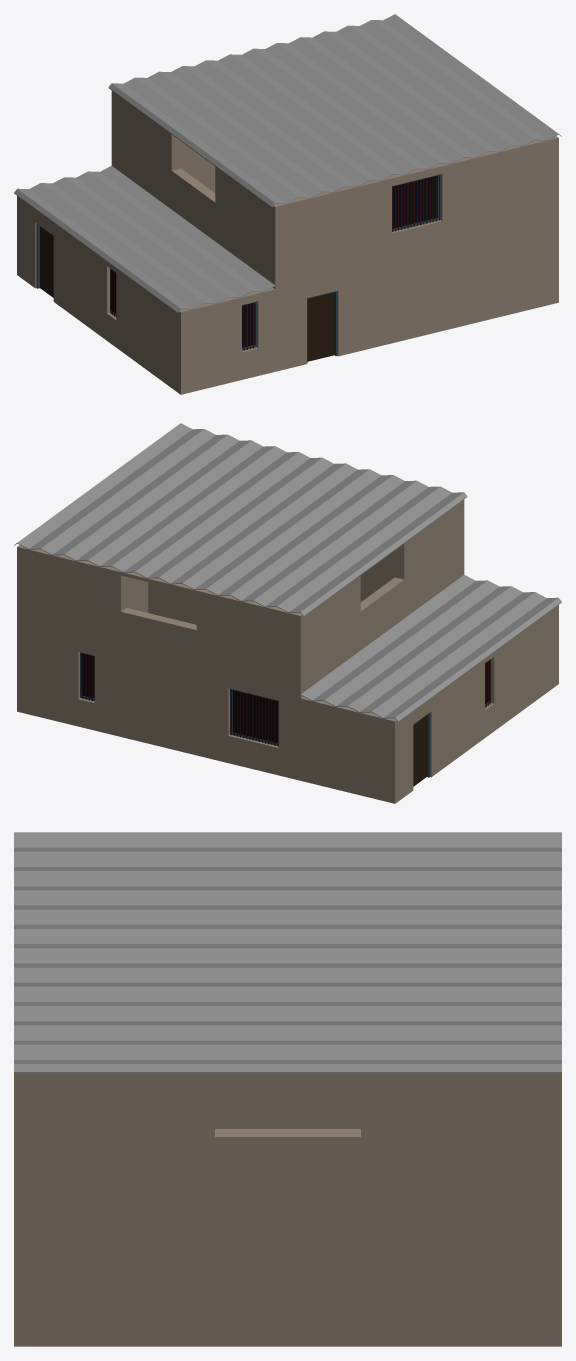
Rendered from SlumsBuilding2.fbx.
3 views of the same model, one above another, from view 1: azimuth 30°, elevation 25°; view 2: azimuth 150°, elevation 25°; view 3: azimuth 270°, elevation 25° (orthographic). The views are drawn at different scales.
Parts seen in each view (by area): view 1: Building 2; view 2: Building 2; view 3: Building 2.
Part boxes in pixels (x1,y1,x2,y2): Building 2: (14,14,561,394); Building 2: (14,423,561,803); Building 2: (14,832,561,1346).
Bounding box in the file's own units: 1220 × 512 × 900.
